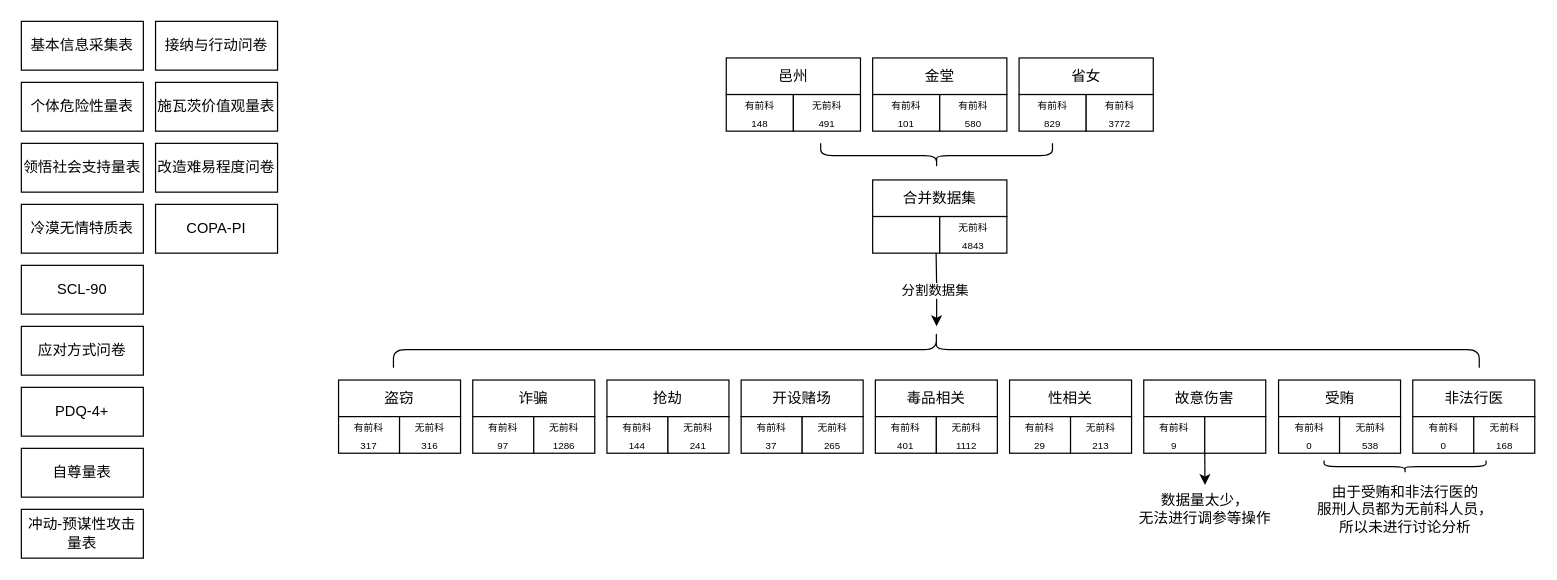
Image size: 1557x580. Some labels were removed from this diagram. The centre of each missing label's shape, as x and y in pixels:
无前科 47: the point at 1235,434
有前科 1078: the point at 905,234
